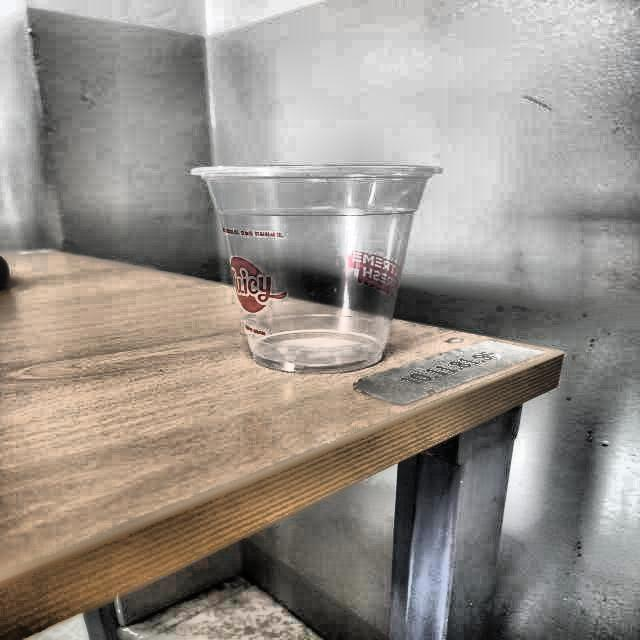plastic cup: (186, 162, 450, 372)
